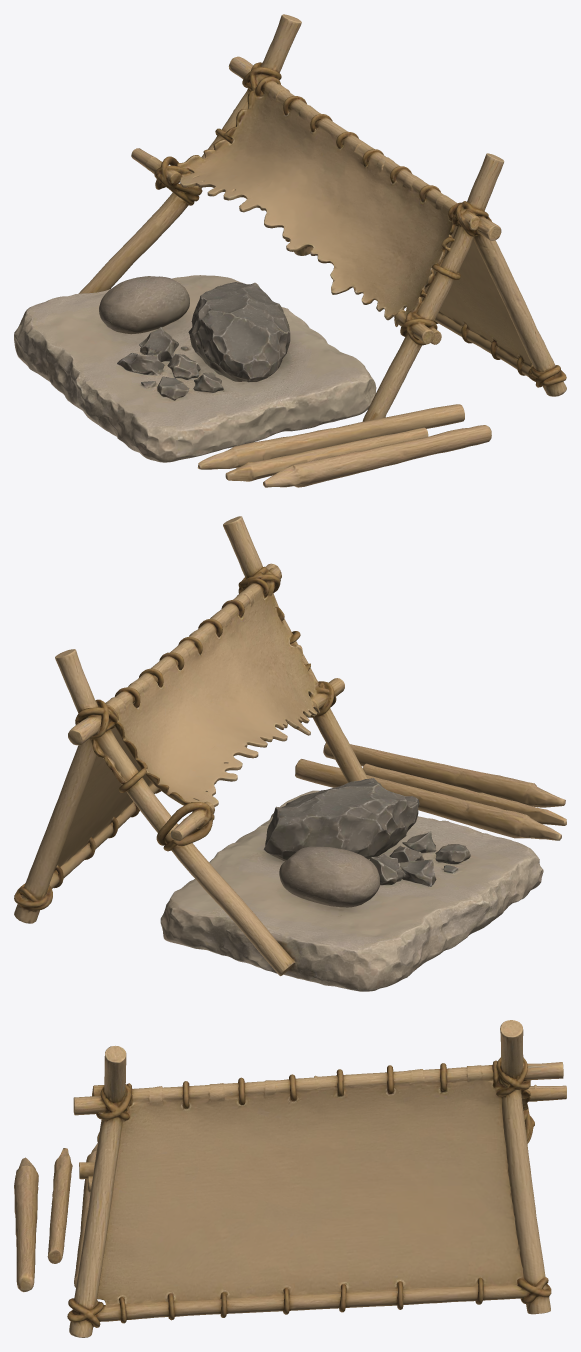
Rendered from Tool Maker (Middle Eastern).fbx.
3 renders of one model, top to bottom at view 1: azimuth 30°, elevation 25°; view 2: azimuth 150°, elevation 25°; view 3: azimuth 270°, elevation 25°, orthographic. The views are drawn at different scales.
Parts seen in each view (by area): view 1: tripo_node_f1a70023; view 2: tripo_node_f1a70023; view 3: tripo_node_f1a70023.
Boxes of the visible parts, left/top/right/bottom form: tripo_node_f1a70023: left=14, top=14, right=566, bottom=487; tripo_node_f1a70023: left=14, top=516, right=566, bottom=991; tripo_node_f1a70023: left=14, top=1020, right=566, bottom=1337.
Size of the model in its own units: 0.8759 by 0.5748 by 1.
